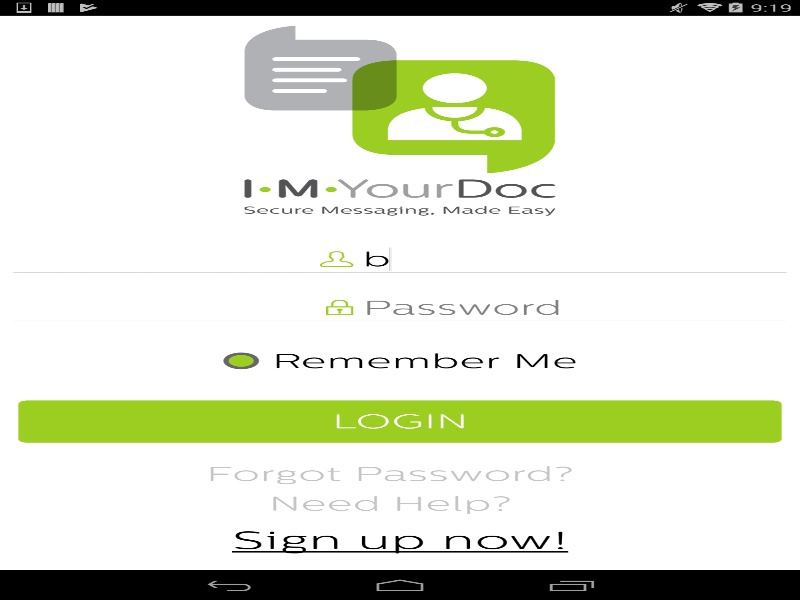Button: (13, 399, 786, 443), (0, 248, 360, 270), (0, 296, 360, 318)
Input: (360, 246, 800, 272), (360, 294, 800, 320)
